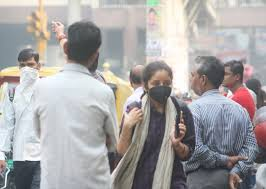mask: (144, 61, 174, 103), (188, 58, 213, 96), (17, 47, 40, 83), (219, 58, 243, 91)
